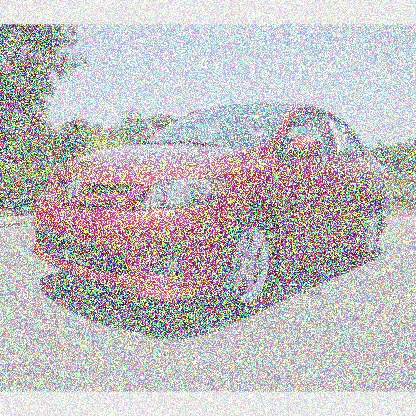Vehicle: (34, 101, 388, 316)
